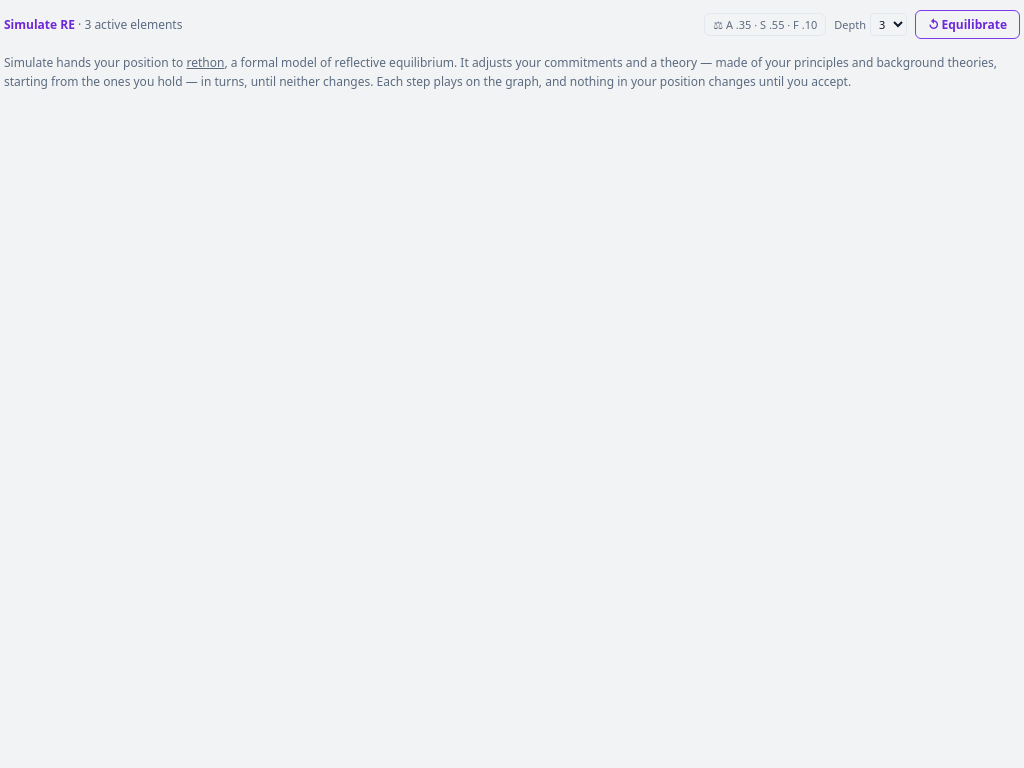
Test: a result › applies exactly what it listed
The image size is (1024, 768).
Click the button "↺ Equilibrate". click: (968, 24)
box: [915,10,1020,39]
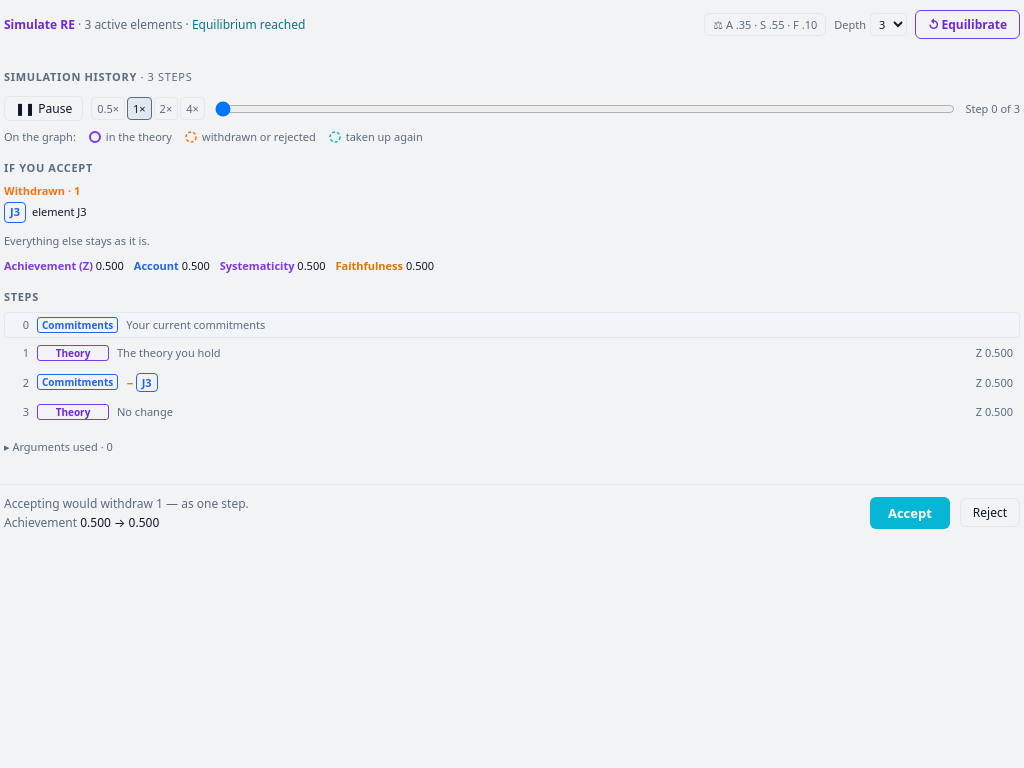
Click the button "Accept". click: (910, 512)
box: [870,496,950,528]
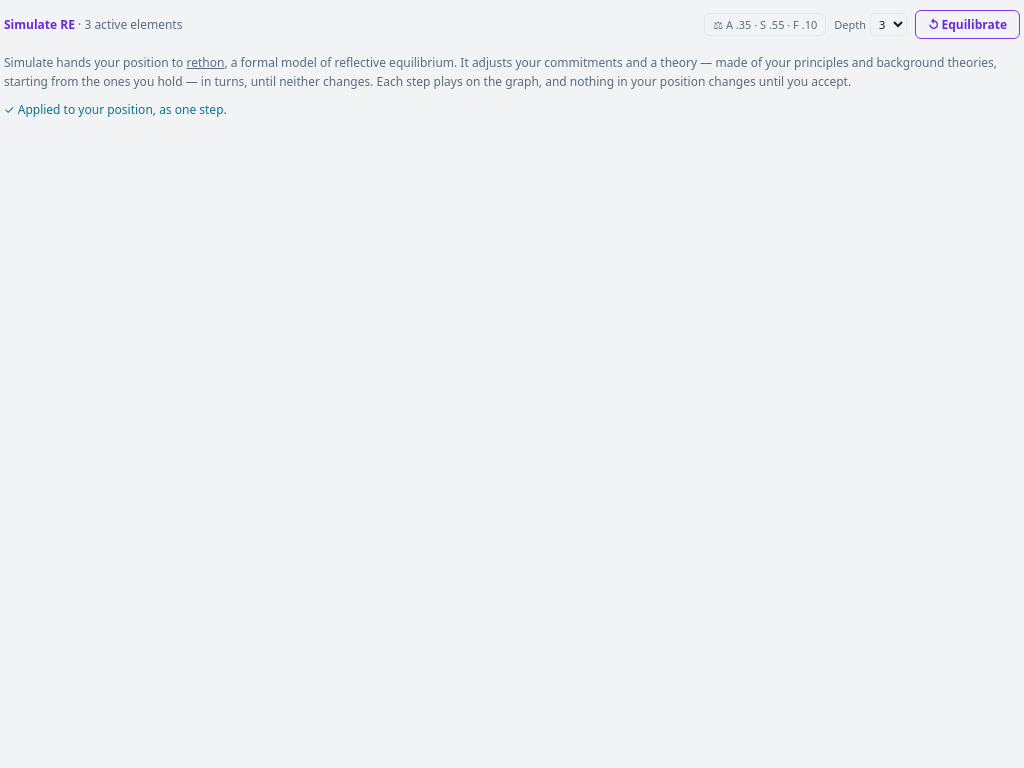
Now the text "✓ Applied to your position, as one step." is shown, box [4,101,227,118]
